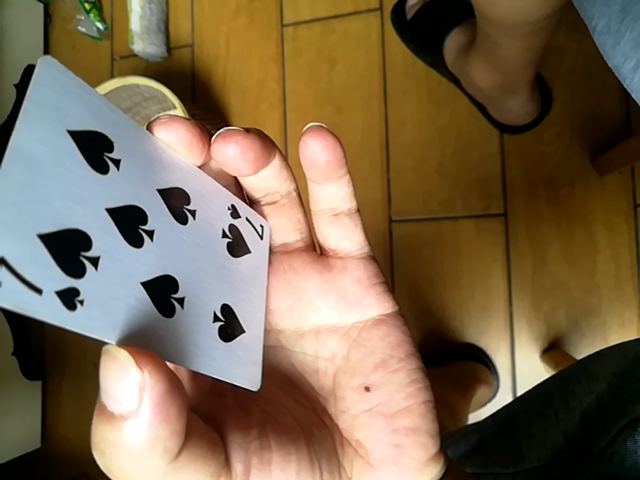ht 7: (4, 47, 279, 402)
